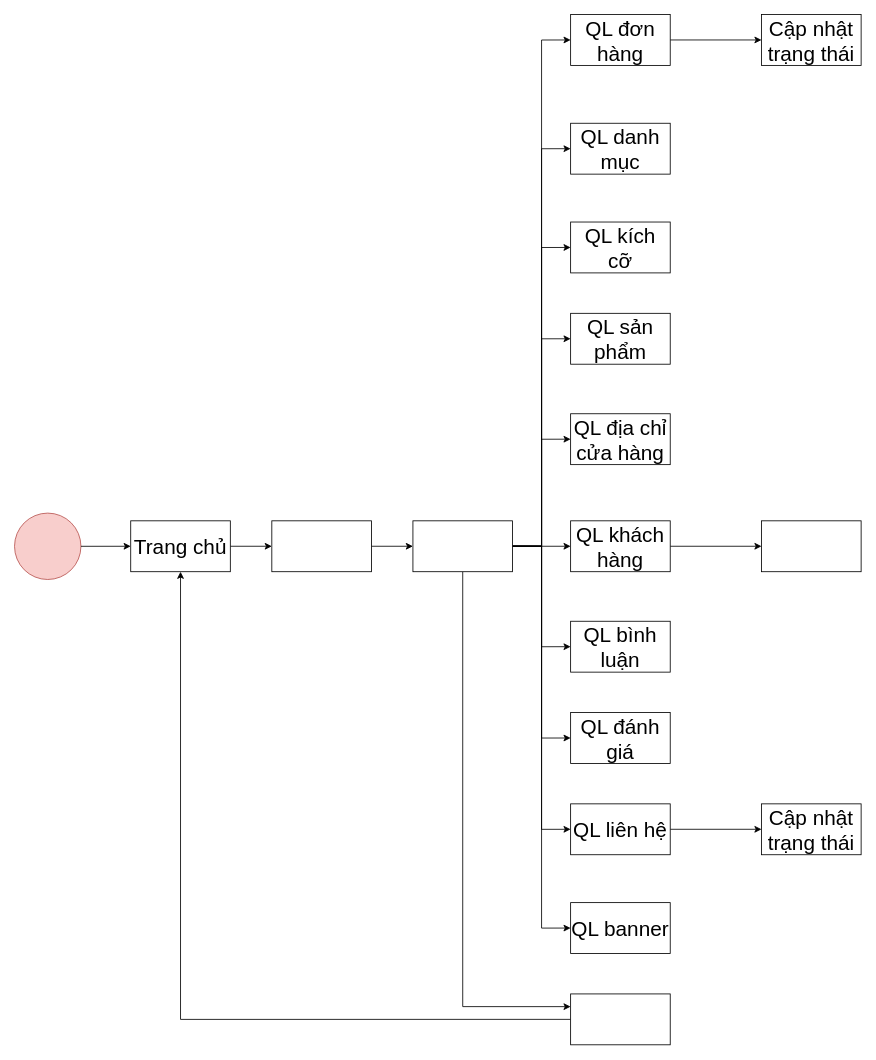
Image size: 876x1060. Some labels were removed from this diagram. Here are the shapes that lost their labels. From the top down, the centre of each, then its label:
At point 47,546: "Admin".
At point 321,546: "Đăng nhập".
At point 462,546: "Thống kê".
At point 811,546: "Phân quyền".
At point 620,1019: "Đăng xuất".
